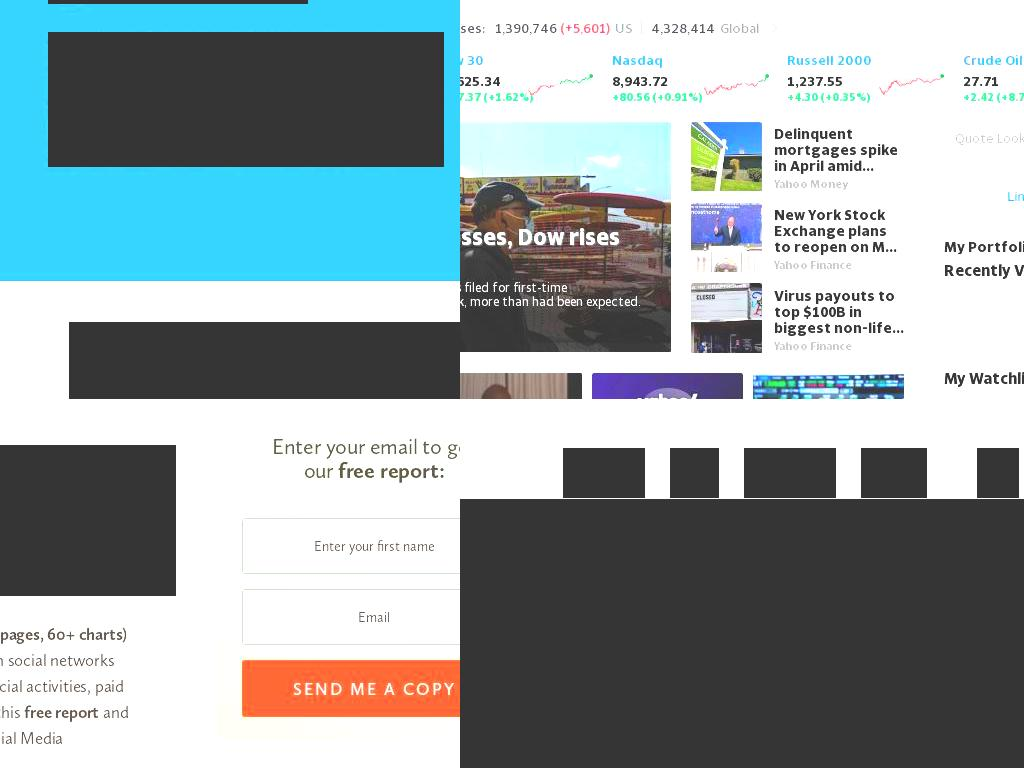button: (460, 225, 647, 353), (691, 121, 904, 192), (691, 202, 904, 272), (691, 283, 904, 353), (460, 14, 791, 42), (744, 448, 836, 498), (537, 0, 654, 36), (563, 448, 645, 498), (944, 173, 1024, 220), (861, 448, 927, 498), (760, 0, 831, 36), (670, 448, 719, 498), (977, 448, 1019, 498), (684, 0, 730, 36), (944, 260, 1024, 280), (472, 0, 507, 36), (861, 0, 893, 36)
field: (241, 660, 460, 717), (241, 518, 460, 574), (241, 589, 460, 645), (944, 121, 1024, 154)
heading: (0, 445, 176, 561), (460, 603, 705, 663), (460, 225, 647, 276), (773, 125, 904, 174), (773, 206, 904, 255), (773, 287, 904, 336), (787, 51, 873, 68), (963, 51, 1023, 68), (611, 72, 668, 89), (787, 72, 844, 89), (611, 51, 663, 68), (460, 72, 500, 89), (963, 72, 999, 89), (487, 89, 529, 103), (656, 89, 698, 103), (825, 89, 867, 103), (611, 89, 650, 103), (787, 89, 819, 103), (963, 89, 994, 103), (460, 51, 484, 68), (1001, 89, 1024, 103), (460, 89, 481, 103), (482, 89, 488, 103), (651, 89, 657, 103), (820, 89, 826, 103), (528, 89, 533, 103), (697, 89, 702, 103), (866, 89, 871, 103), (996, 89, 1001, 103)
image: (460, 499, 1024, 768), (460, 121, 672, 353), (69, 322, 460, 399), (691, 121, 762, 192), (691, 202, 762, 273), (691, 283, 762, 354), (592, 372, 743, 399), (753, 372, 904, 399), (764, 17, 784, 38)
link: (460, 309, 647, 353), (460, 275, 647, 310), (691, 176, 904, 191), (691, 257, 904, 272), (691, 338, 904, 353)
text: (48, 32, 444, 167), (0, 650, 124, 722), (0, 702, 129, 768), (0, 561, 176, 596), (271, 433, 460, 460), (97, 346, 275, 372), (337, 457, 445, 484), (0, 624, 128, 644), (944, 260, 1024, 279), (944, 368, 1024, 387), (24, 702, 100, 722), (944, 237, 1024, 255), (651, 19, 715, 36), (495, 19, 557, 36), (303, 457, 338, 484), (720, 19, 759, 36), (573, 19, 606, 36), (610, 19, 633, 36), (460, 19, 482, 36), (560, 19, 573, 36), (606, 19, 610, 36), (482, 19, 485, 36)
